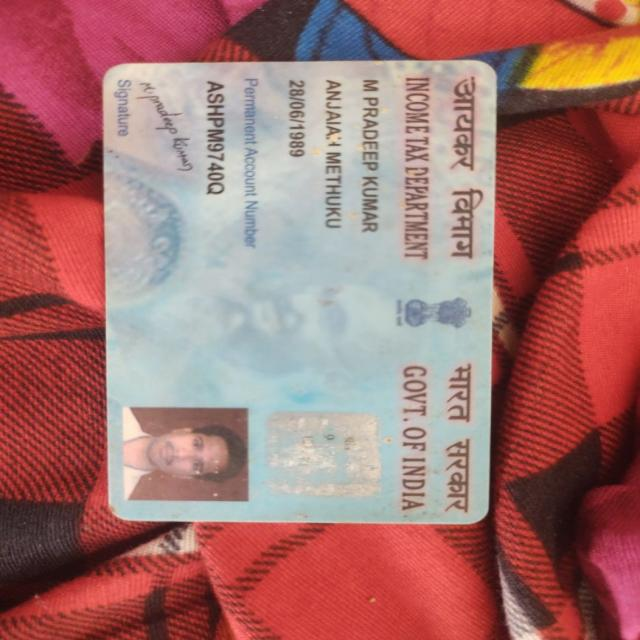pan_card: (104, 67, 496, 524)
